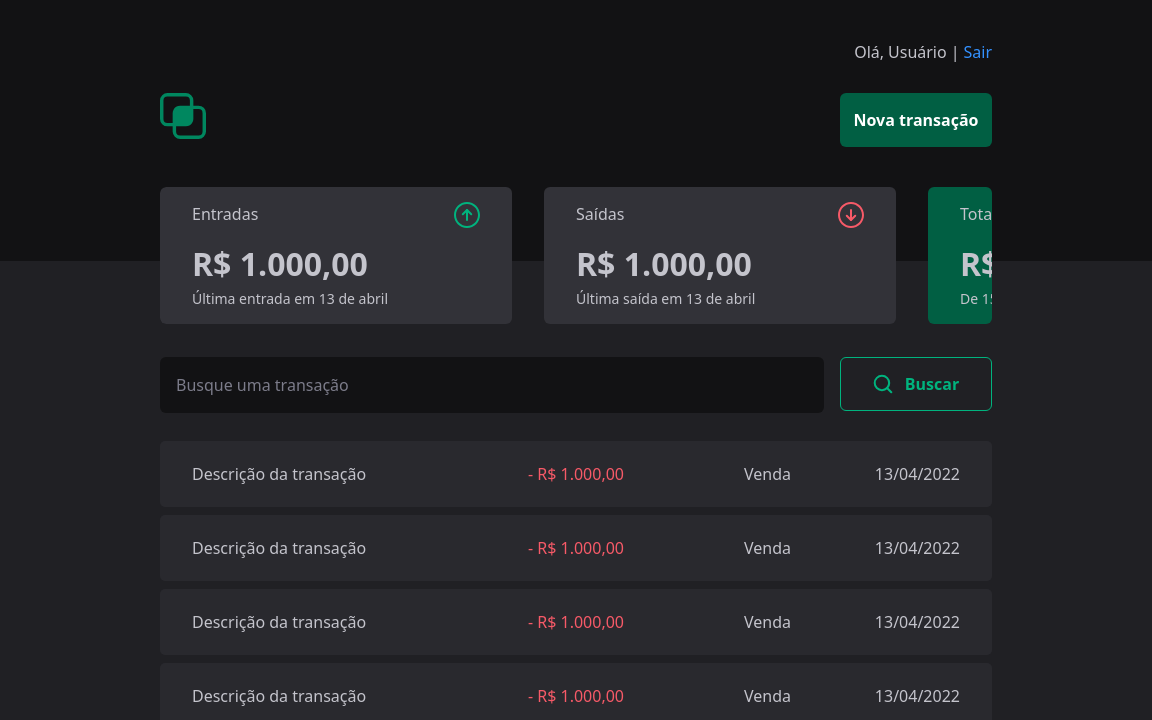
Scenario: Account Postings Page › Interaction with widescreen resolution › should click on new transaction button and open modal
The width and height of the screenshot is (1152, 720).
What coordinates should you click on to do the following:
click the button with aria-label "Botão para abrir modal de nova transação"
I would click on:
 (916, 120)
Its box is [840,93,992,147].
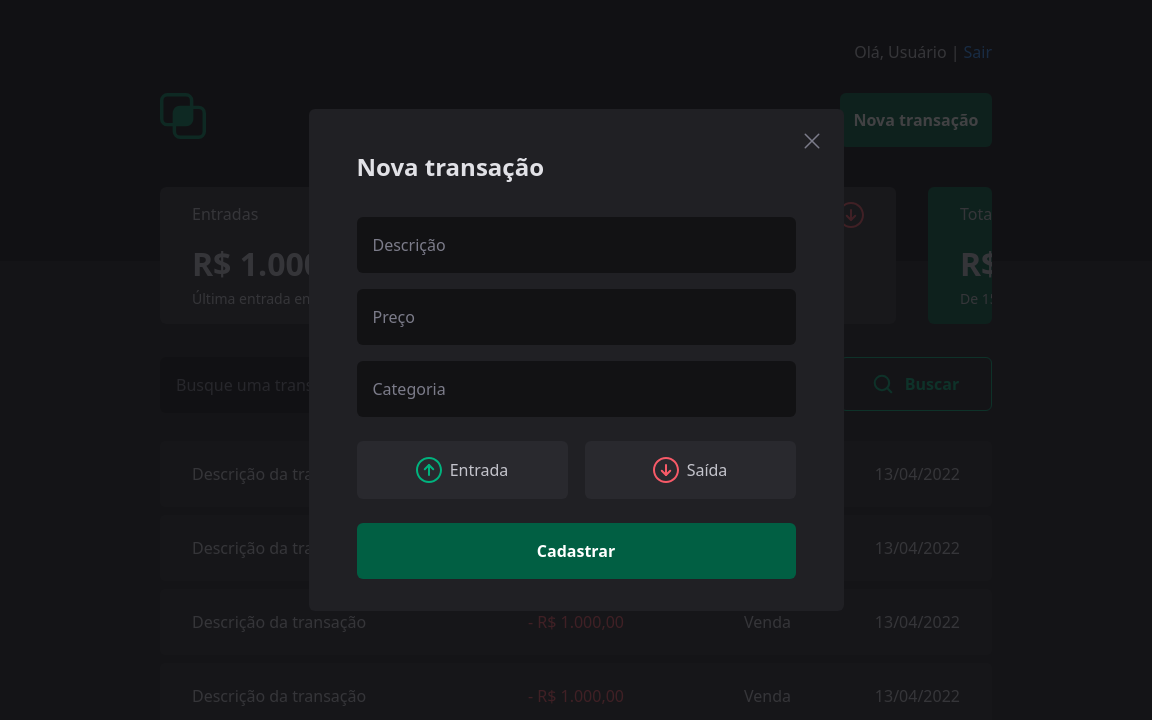
Expected: the dialog "Nova transação" is shown, [308,109,844,611]
